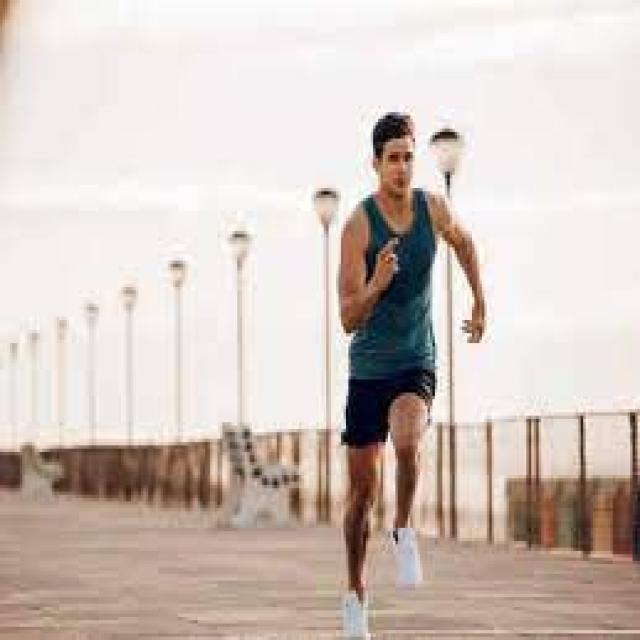running: (338, 109, 487, 640)
